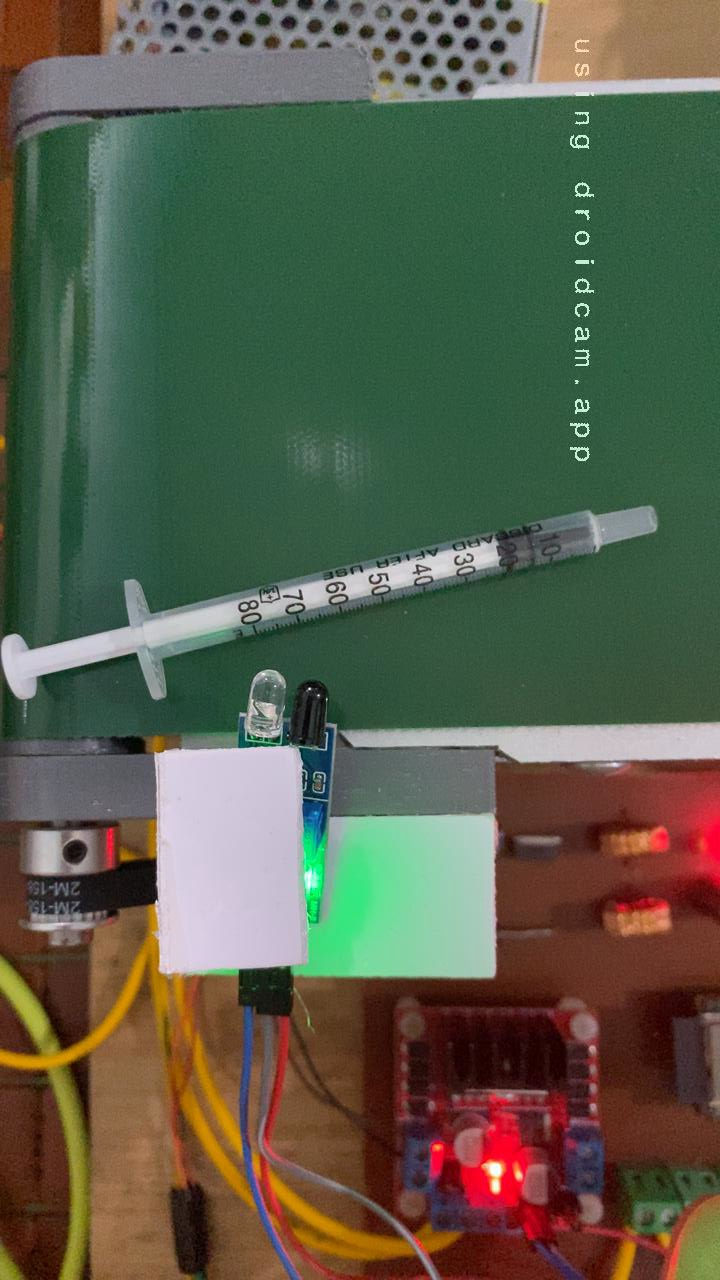syringe: (0, 501, 665, 711)
